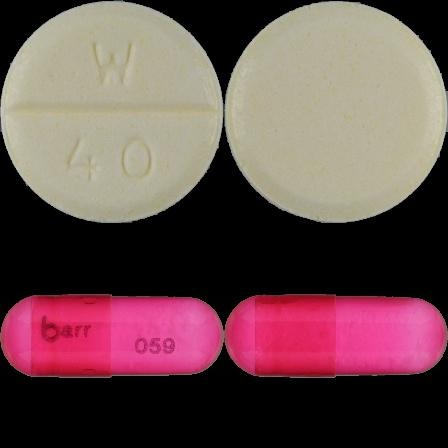53808-0237: (0, 0, 224, 224)
